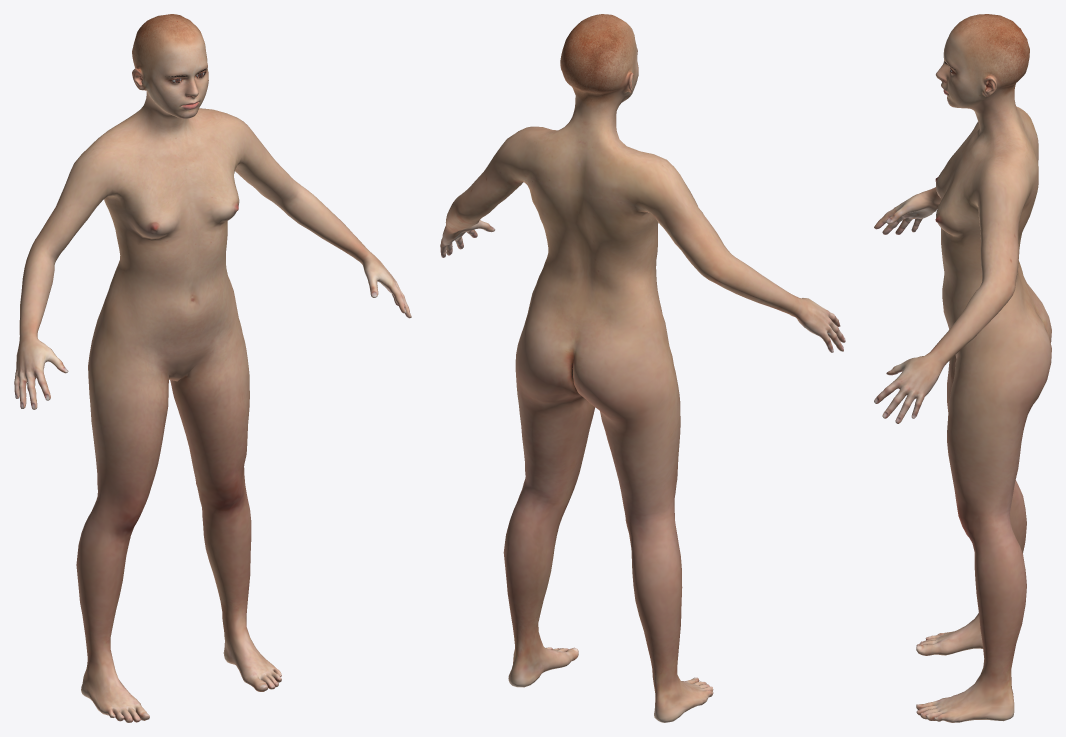
The model's file is ember.glb.
3 views of the same model, side by side, from view 1: azimuth 30°, elevation 25°; view 2: azimuth 150°, elevation 25°; view 3: azimuth 270°, elevation 25° (orthographic).
Parts seen in each view (by area): view 1: Human; view 2: Human; view 3: Human.
Boxes of the visible parts, bbox=[...] form: Human: bbox=[14, 14, 411, 722]; Human: bbox=[440, 14, 845, 722]; Human: bbox=[874, 14, 1051, 722].
Bounding box in the file's own units: 0.9672 × 1.58 × 0.3825.
7 materials, 6 textured.
